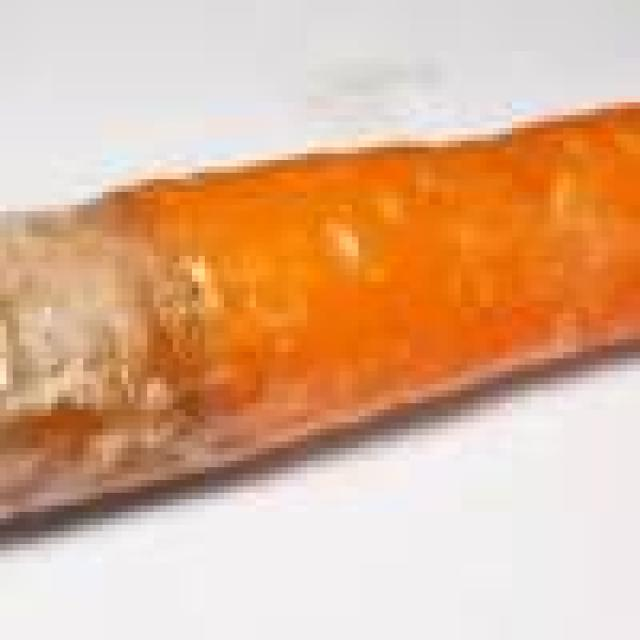Stale_Carrot: (0, 141, 588, 484)
